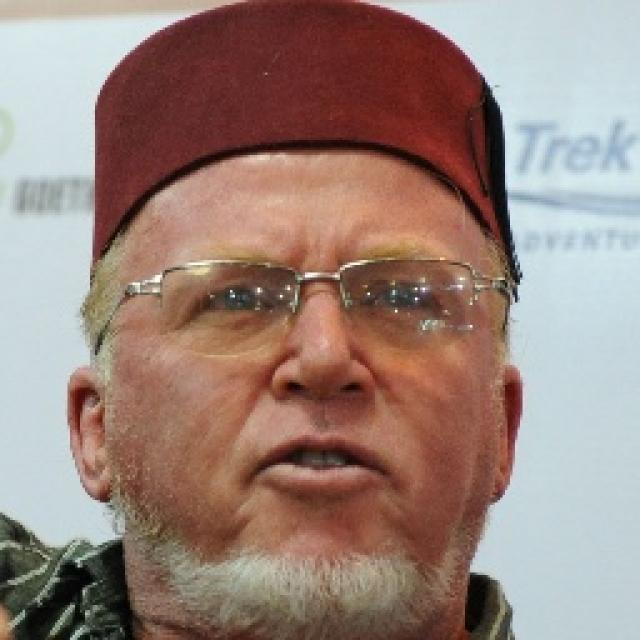earlobe: (83, 471, 117, 503), (489, 466, 512, 506)
eye: (200, 283, 268, 317), (369, 283, 429, 315)
nose: (270, 386, 377, 432)
wholeear: (66, 367, 114, 503), (490, 365, 525, 507)
